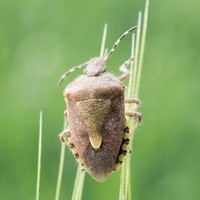insect: (59, 26, 136, 180)
